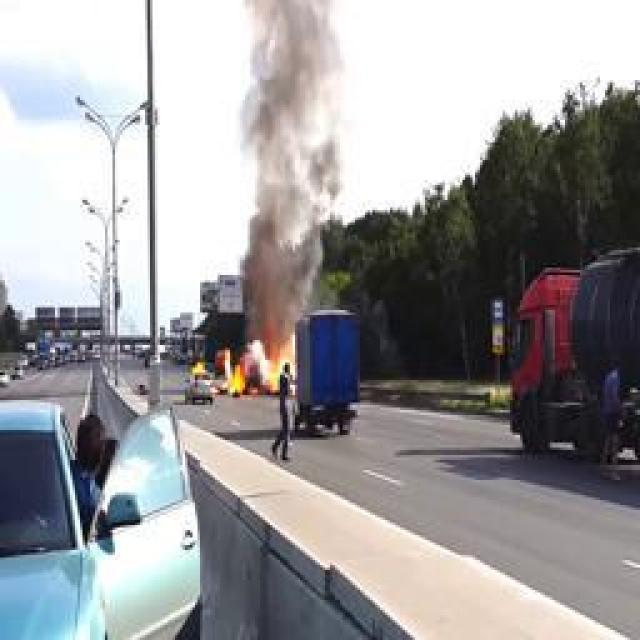Fire: (218, 334, 296, 396)
